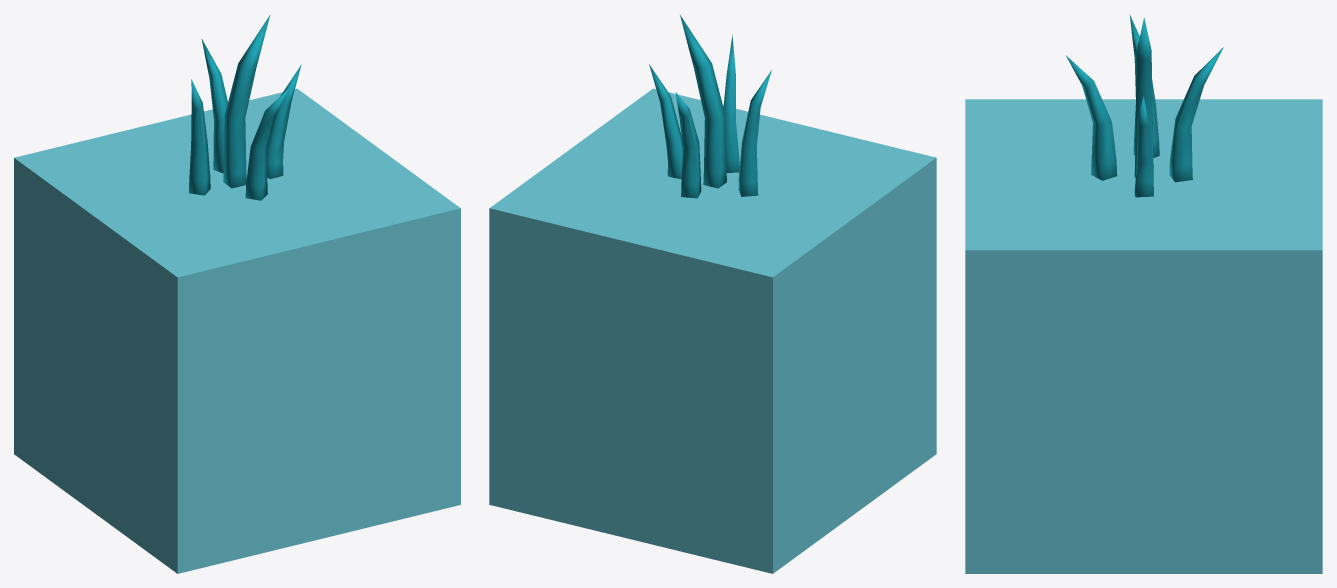
The model's file is IceGrassBlender.glb.
3 views of the same model, side by side, from view 1: azimuth 30°, elevation 25°; view 2: azimuth 150°, elevation 25°; view 3: azimuth 270°, elevation 25° (orthographic). The views are drawn at different scales.
Parts seen in each view (by area): view 1: WinterGroundIce, WinterGrass02; view 2: WinterGroundIce, WinterGrass02; view 3: WinterGroundIce, WinterGrass02.
Boxes of the visible parts, x1=… form: WinterGroundIce: x1=14, y1=88, x2=460, y2=573; WinterGrass02: x1=189, y1=14, x2=301, y2=200; WinterGroundIce: x1=489, y1=88, x2=936, y2=573; WinterGrass02: x1=649, y1=15, x2=771, y2=198; WinterGroundIce: x1=965, y1=99, x2=1322, y2=573; WinterGrass02: x1=1066, y1=14, x2=1223, y2=197.
Size of the model in its own units: 2 by 3.09 by 2.
Materials: 1 (1 with a texture image).
